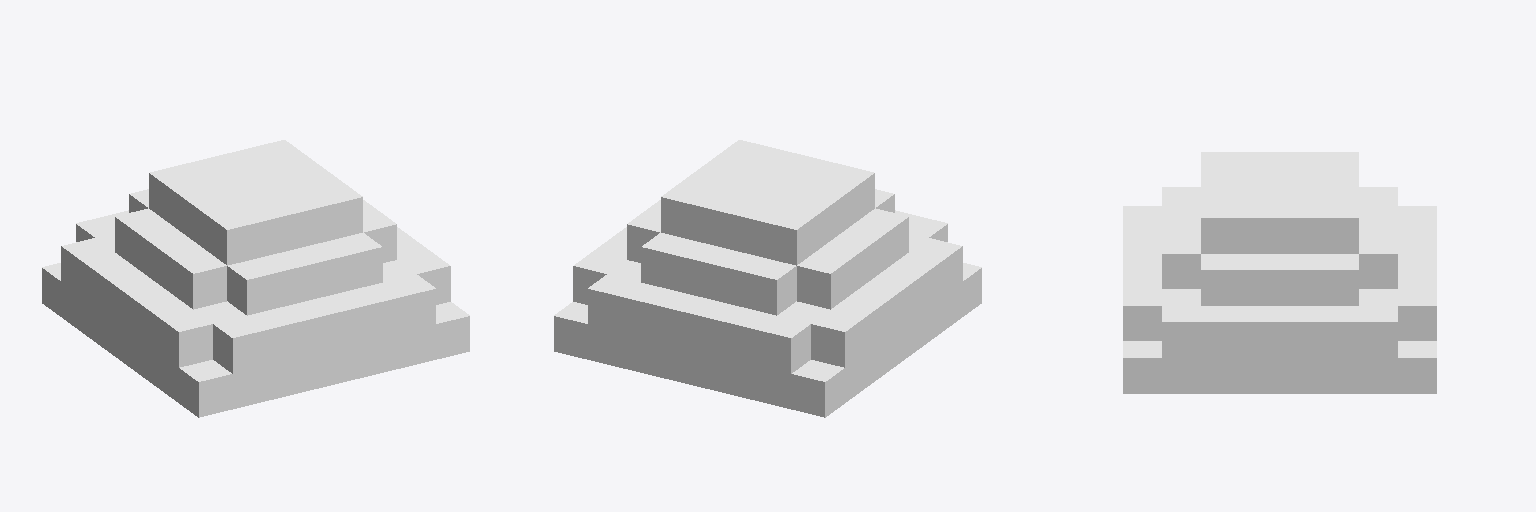
File: curryRoux.obj
The picture shows the model from 3 angles: view 1: azimuth 30°, elevation 25°; view 2: azimuth 150°, elevation 25°; view 3: azimuth 270°, elevation 25°; orthographic projection.
Visible parts, largest first — view 1: object 1; view 2: object 1; view 3: object 1.
Boxes of the visible parts, <box> form: object 1: <box>42,140,469,417</box>; object 1: <box>554,140,981,417</box>; object 1: <box>1123,152,1436,393</box>.
Size of the model in its own units: 0.8 by 0.4 by 0.8.